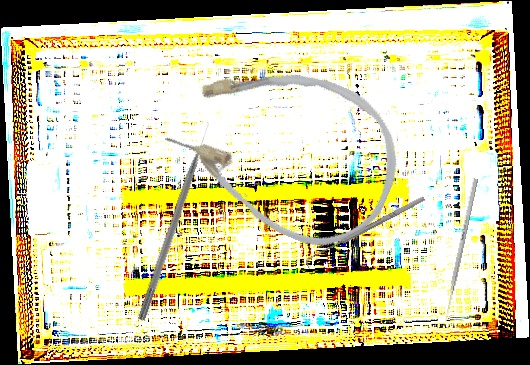Cannula: (148, 30, 421, 267)
Hook Surgical: (302, 194, 429, 269)
Pusher: (136, 120, 216, 323), (442, 178, 479, 323)
